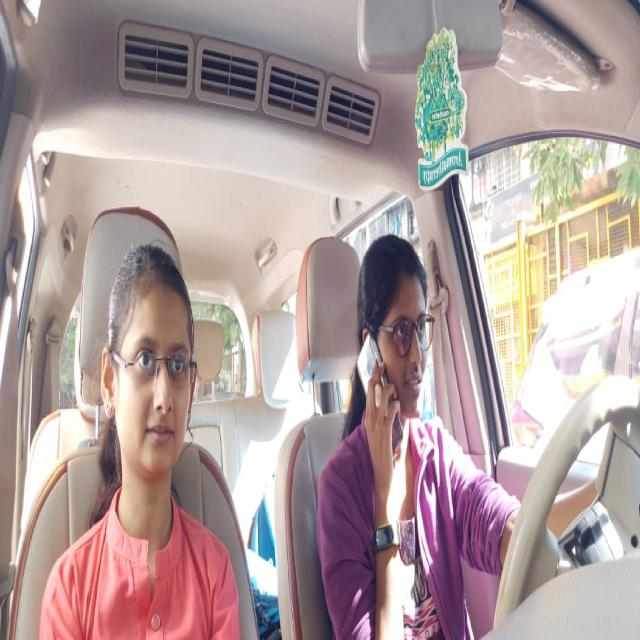mobile: (355, 331, 405, 462)
person: (97, 239, 200, 480), (351, 233, 438, 424)
